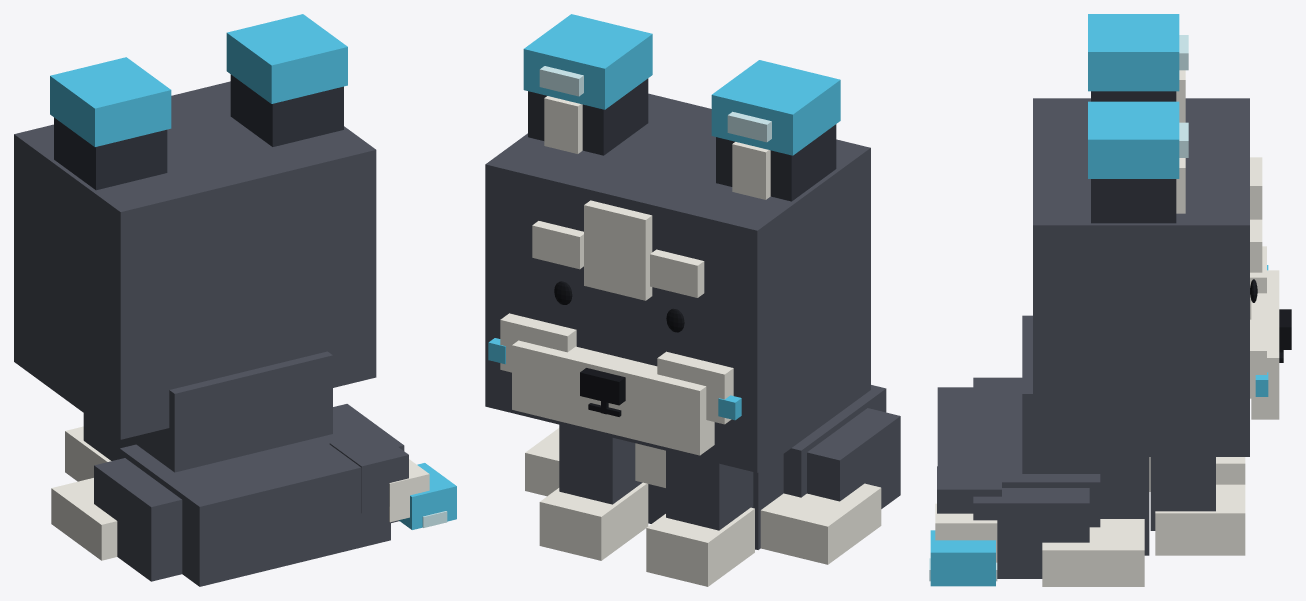
File: Husky_Block.glb
The picture shows the model from 3 angles, left to right: view 1: azimuth 30°, elevation 25°; view 2: azimuth 150°, elevation 25°; view 3: azimuth 270°, elevation 25°; orthographic projection. The views are drawn at different scales.
Parts seen in each view (by area): view 1: BigHead, SeatedRump, ShortTorso, EarIceCapL, EarIceCapR, LegBL_Leg, TallEarR, TallEarL, LegBL_Paw, TailRoot, TailIceTip, LegFL_Paw (+3 smaller); view 2: BigHead, WhiteMuzzle, EarIceCapR, EarIceCapL, LegBL_Paw, LegBL_Leg, LegFR_Paw, LegFL_Paw, MaskBlaze, LegFL_Leg, LegFR_Leg, TallEarL (+14 smaller); view 3: BigHead, SeatedRump, LegBR_Leg, EarIceCapL, EarIceCapR, ShortTorso, LegBR_Paw, LegFR_Paw, TallEarR, LegFR_Leg, TailIceTip, WhiteMuzzle (+10 smaller).
Part boxes in pixels (left/top/right/bottom): BigHead: left=14, top=81, right=376, bottom=439; SeatedRump: left=119, top=418, right=390, bottom=586; ShortTorso: left=112, top=351, right=332, bottom=472; EarIceCapL: left=50, top=57, right=171, bottom=146; EarIceCapR: left=226, top=14, right=347, bottom=103; LegBL_Leg: left=94, top=458, right=182, bottom=581; TallEarR: left=230, top=74, right=343, bottom=146; TallEarL: left=54, top=117, right=167, bottom=190; LegBL_Paw: left=51, top=478, right=117, bottom=560; TailRoot: left=329, top=431, right=408, bottom=513; TailIceTip: left=399, top=463, right=456, bottom=529; LegFL_Paw: left=65, top=426, right=111, bottom=481; BigHead: left=485, top=93, right=870, bottom=472; WhiteMuzzle: left=512, top=340, right=714, bottom=455; EarIceCapR: left=523, top=14, right=652, bottom=109; EarIceCapL: left=711, top=60, right=840, bottom=155; LegBL_Paw: left=760, top=483, right=881, bottom=564; LegBL_Leg: left=807, top=408, right=900, bottom=508; LegFR_Paw: left=539, top=482, right=648, bottom=560; LegFL_Paw: left=646, top=507, right=754, bottom=586; MaskBlaze: left=584, top=200, right=652, bottom=300; LegFL_Leg: left=666, top=450, right=753, bottom=530; LegFR_Leg: left=559, top=424, right=642, bottom=504; TallEarL: left=716, top=124, right=836, bottom=201; BigHead: left=1033, top=98, right=1249, bottom=456; SeatedRump: left=937, top=387, right=1100, bottom=527; LegBR_Leg: left=973, top=488, right=1089, bottom=578; EarIceCapL: left=1088, top=14, right=1179, bottom=91; EarIceCapR: left=1088, top=101, right=1179, bottom=178; ShortTorso: left=1022, top=315, right=1149, bottom=555; LegBR_Paw: left=1042, top=519, right=1144, bottom=586; LegFR_Paw: left=1155, top=484, right=1245, bottom=555; TallEarR: left=1091, top=179, right=1176, bottom=223; LegFR_Leg: left=1150, top=457, right=1215, bottom=530; TailIceTip: left=930, top=530, right=995, bottom=586; WhiteMuzzle: left=1251, top=270, right=1279, bottom=419.
Size of the model in its own units: 2.28 by 3.13 by 2.34.
